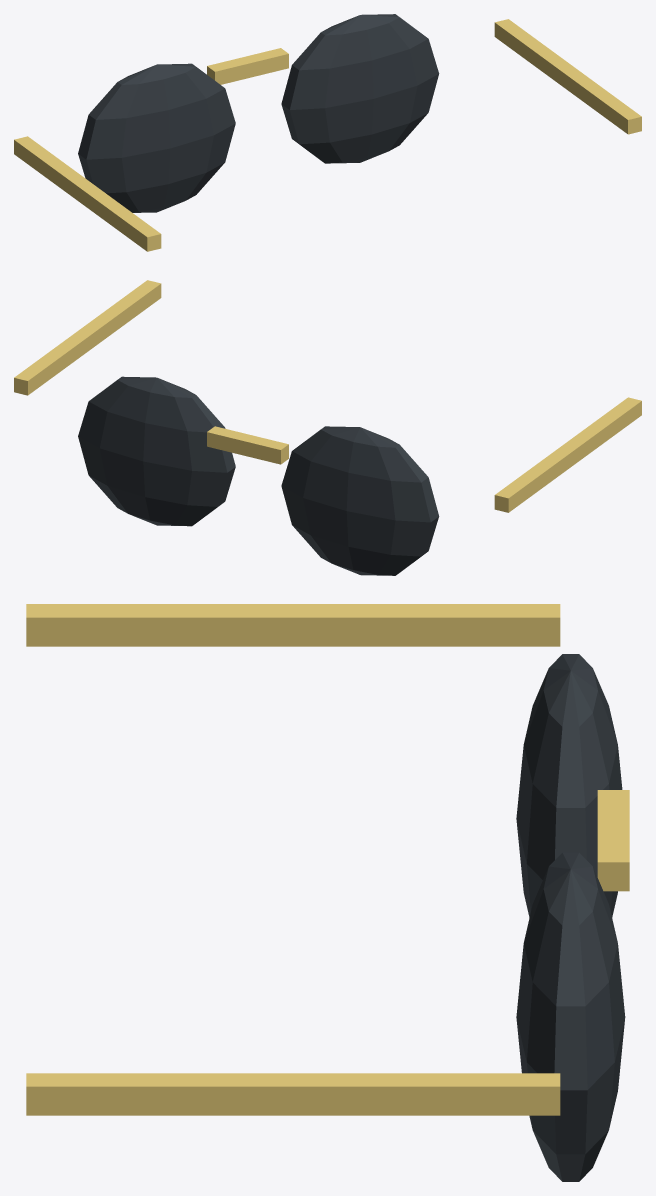
Rendered from face_glasses_drops.glb.
The picture shows the model from 3 angles, top to bottom: view 1: azimuth 30°, elevation 25°; view 2: azimuth 150°, elevation 25°; view 3: azimuth 270°, elevation 25°; orthographic projection. The views are drawn at different scales.
Visible parts, largest first — view 1: Head; view 2: Head; view 3: Head.
Boxes of the visible parts, x1,y1,x2,y2 form: Head: (14,14,641,251); Head: (14,280,641,575); Head: (26,604,629,1181).
Bounding box in the file's own units: 0.535 × 0.153 × 0.2825.
